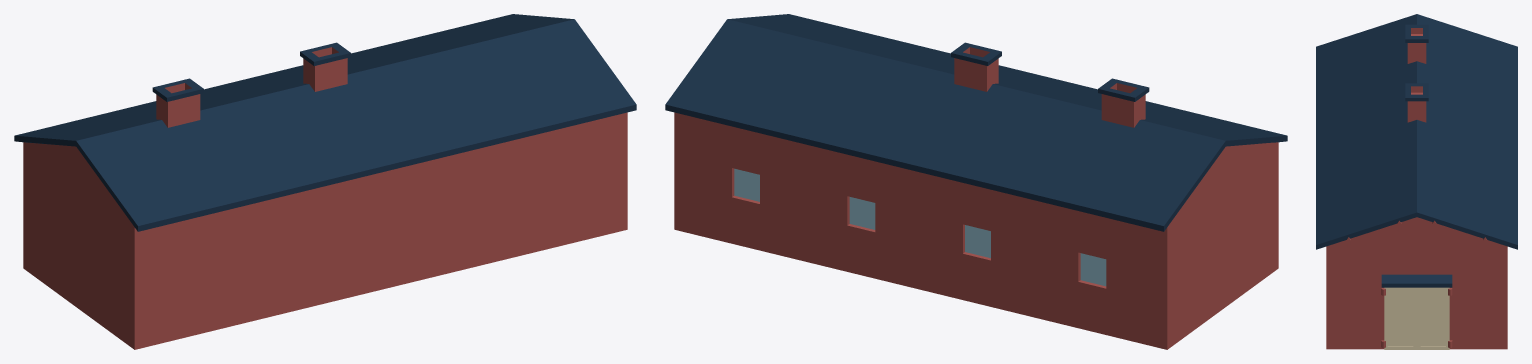
The model's file is mesh_BarraclsColSpoonSolid.fbx.
3 renders of one model, left to right at view 1: azimuth 30°, elevation 25°; view 2: azimuth 150°, elevation 25°; view 3: azimuth 270°, elevation 25°, orthographic. The views are drawn at different scales.
Visible parts, largest first — view 1: mesh_BarrackSpoonSolid; view 2: mesh_BarrackSpoonSolid; view 3: mesh_BarrackSpoonSolid.
Part boxes in pixels (box(x1,y1,x2,y2)): mesh_BarrackSpoonSolid: box(14, 14, 636, 349); mesh_BarrackSpoonSolid: box(665, 14, 1287, 349); mesh_BarrackSpoonSolid: box(1316, 14, 1517, 349).
Bounding box in the file's own units: 895 × 333 × 379.
